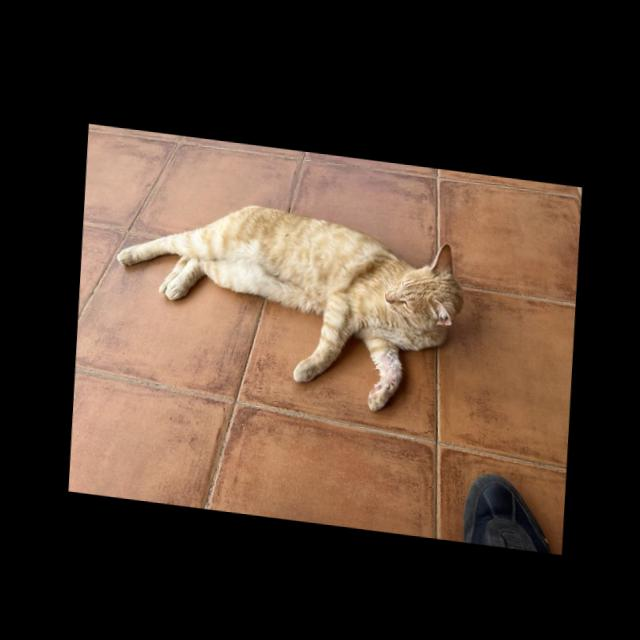animals: (107, 185, 466, 417)
